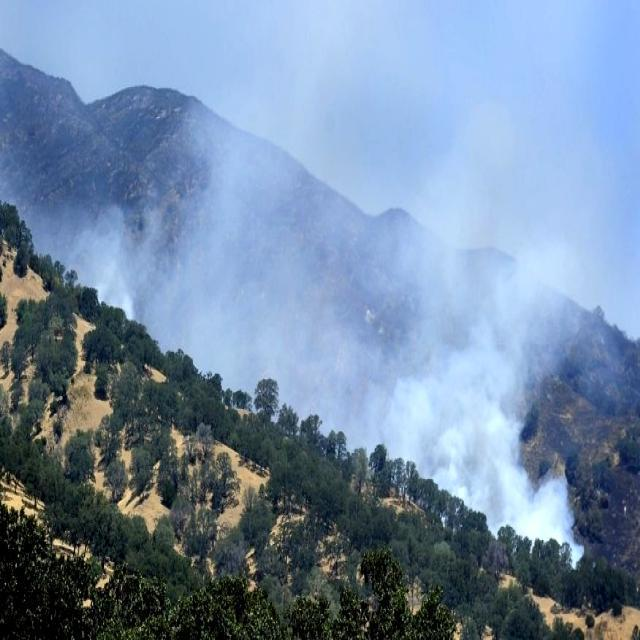Smoke: (74, 41, 564, 550)
